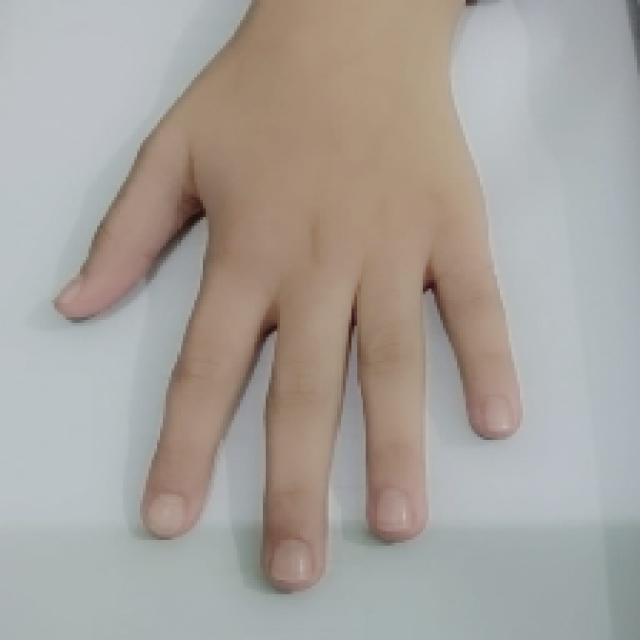Nail: (144, 492, 189, 536), (270, 540, 312, 582), (376, 489, 411, 532), (484, 396, 512, 432), (55, 275, 82, 301)
